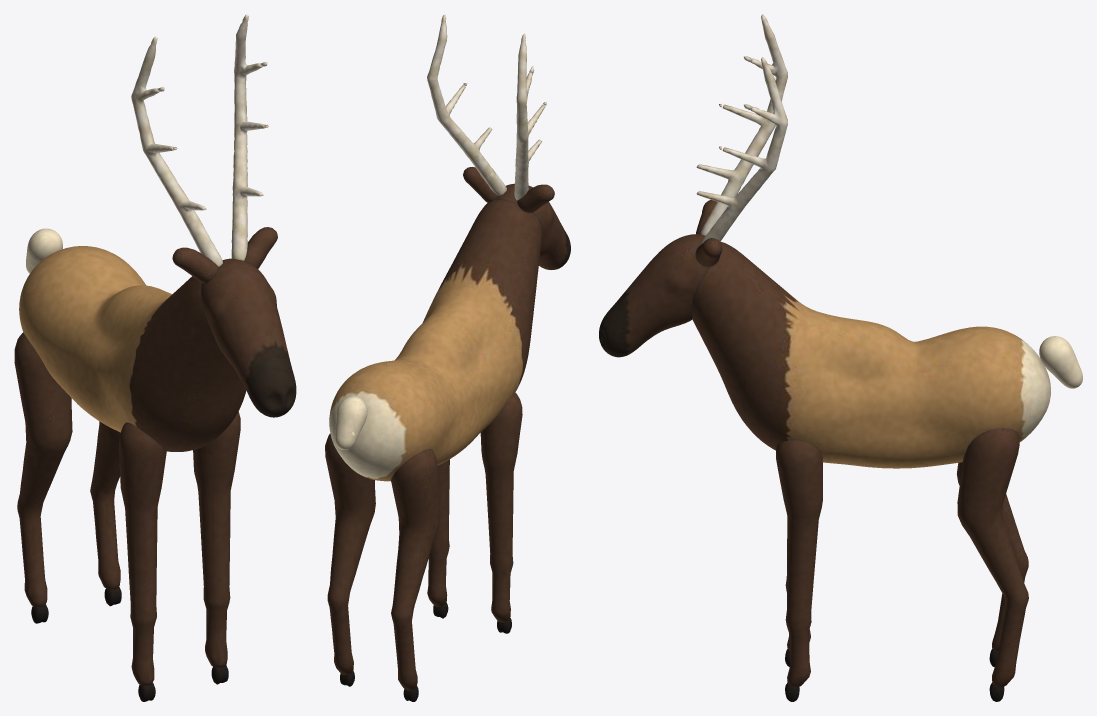
Rendered from animal_elk.glb.
3 renders of one model, left to right at view 1: azimuth 30°, elevation 25°; view 2: azimuth 150°, elevation 25°; view 3: azimuth 270°, elevation 25°, orthographic. The views are drawn at different scales.
Visible parts, largest first — view 1: animal_elk, head, leg2, leg0, leg1, leg3, tail; view 2: animal_elk, head, leg2, leg3, leg0, leg1, tail; view 3: animal_elk, head, leg3, leg1, tail, leg2.
Boxes of the visible parts, bbox=[...] form: animal_elk: bbox=[19, 246, 246, 451]; head: bbox=[131, 14, 296, 417]; leg2: bbox=[14, 332, 72, 623]; leg0: bbox=[119, 422, 166, 701]; leg1: bbox=[193, 411, 240, 684]; leg3: bbox=[90, 421, 121, 606]; tail: bbox=[26, 228, 62, 273]; animal_elk: bbox=[329, 199, 542, 481]; head: bbox=[427, 14, 570, 269]; leg2: bbox=[391, 449, 439, 701]; leg3: bbox=[325, 433, 375, 686]; leg0: bbox=[480, 392, 522, 633]; leg1: bbox=[427, 459, 449, 618]; tail: bbox=[335, 396, 367, 449]; animal_elk: bbox=[692, 241, 1050, 468]; head: bbox=[599, 14, 787, 357]; leg3: bbox=[957, 428, 1028, 701]; leg1: bbox=[776, 440, 822, 701]; tail: bbox=[1039, 336, 1082, 388]; leg2: bbox=[957, 462, 1028, 667].
Size of the model in its own units: 0.234 by 1.25 by 0.8429.
Materials: 1 (1 with a texture image).
